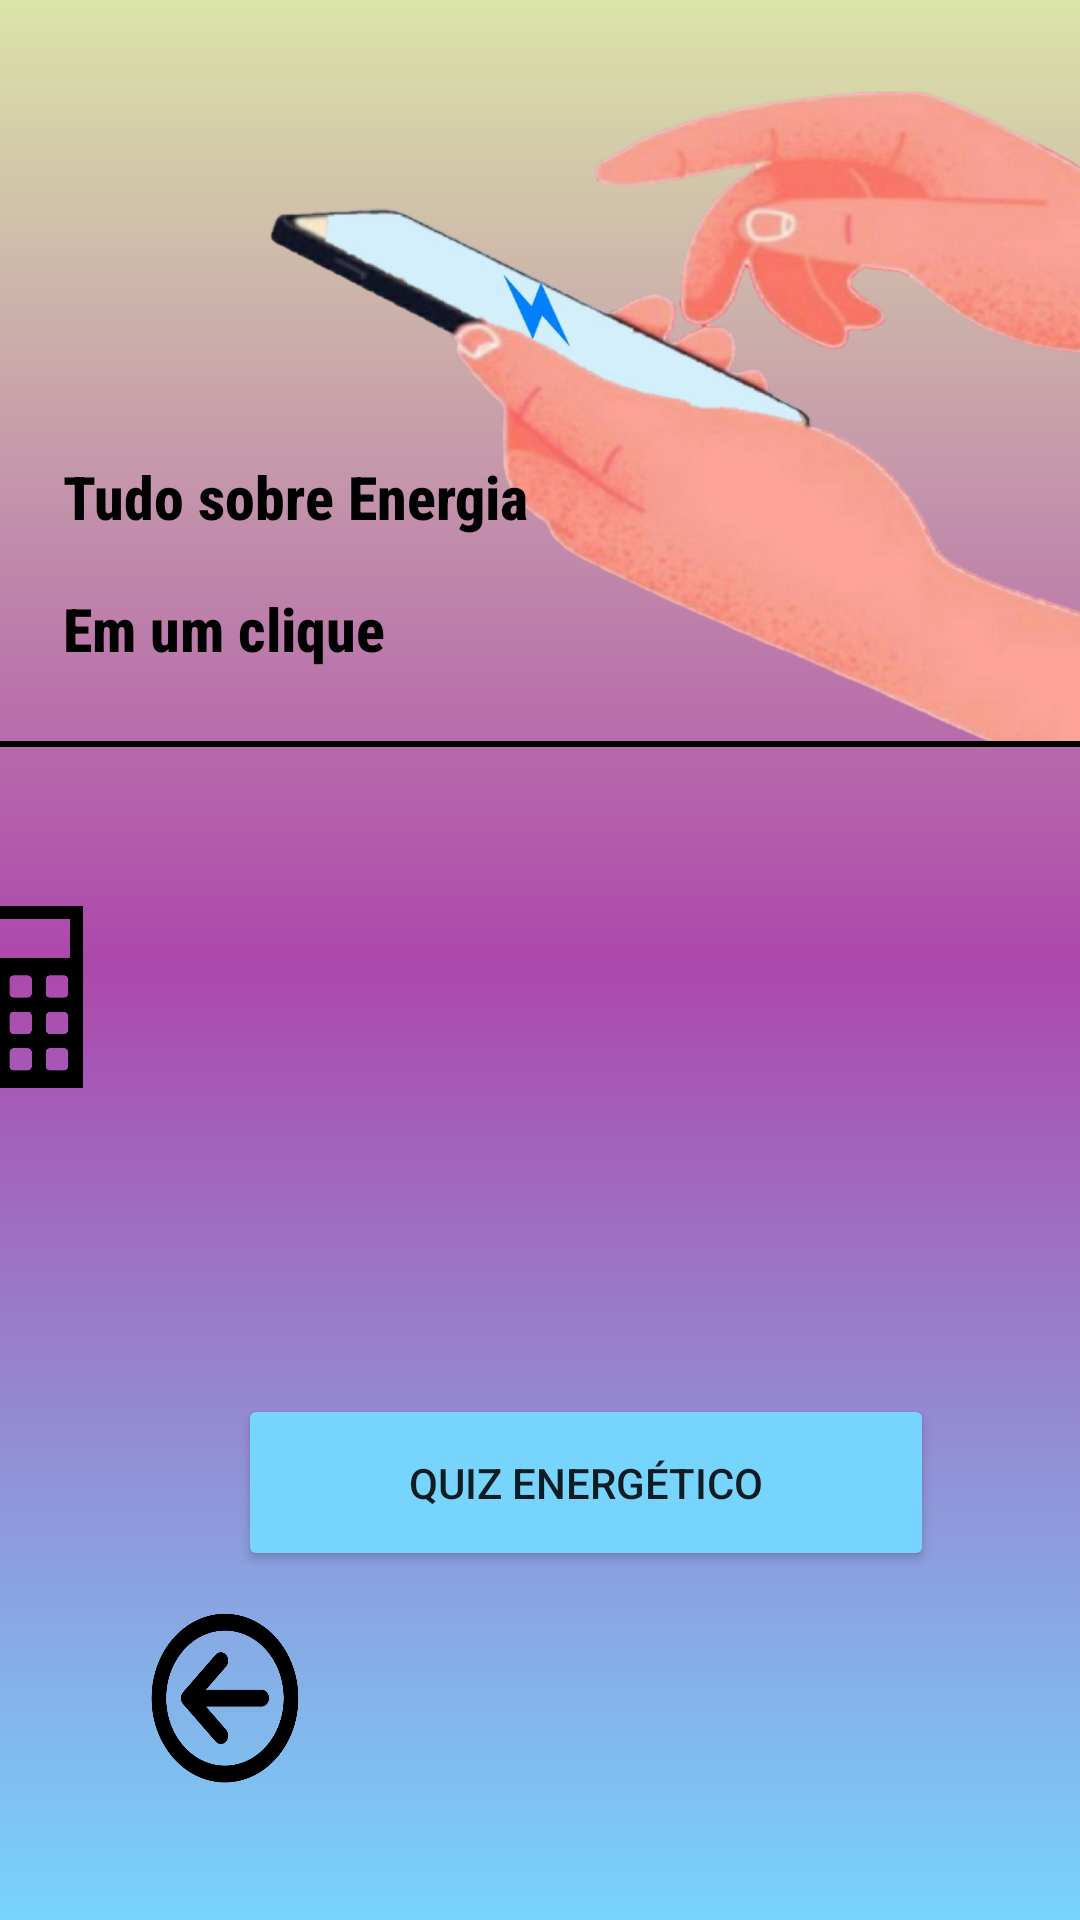

Icons on this 1080px x 1920px Android screen, each with the point to tap as point (x, y):
back: point (219, 1699)
